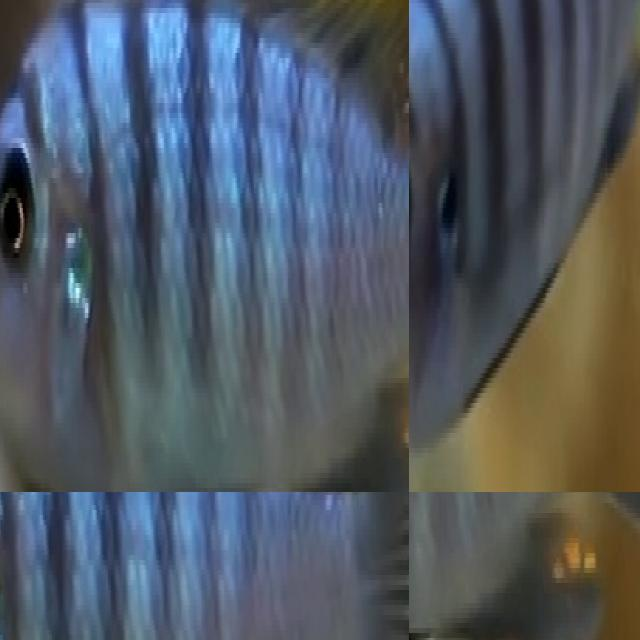fish: (0, 0, 409, 492), (409, 0, 640, 458), (409, 492, 640, 640)
